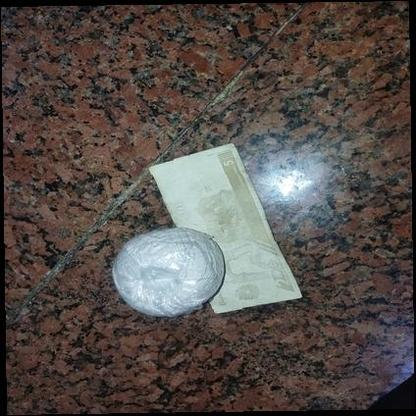vef_back: (147, 143, 303, 314)
